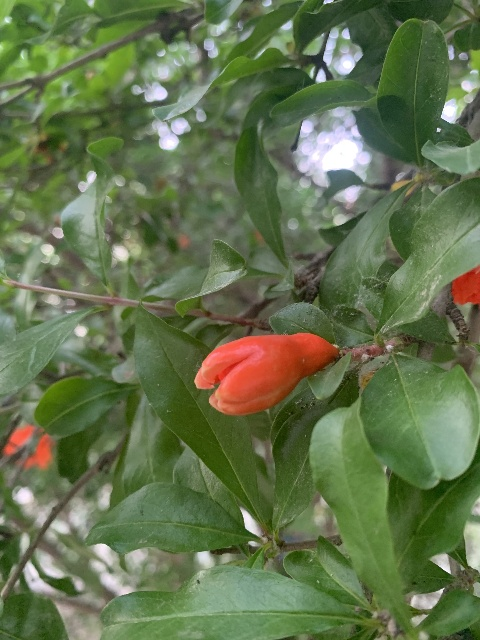flower: (193, 331, 337, 414), (3, 425, 53, 469)
